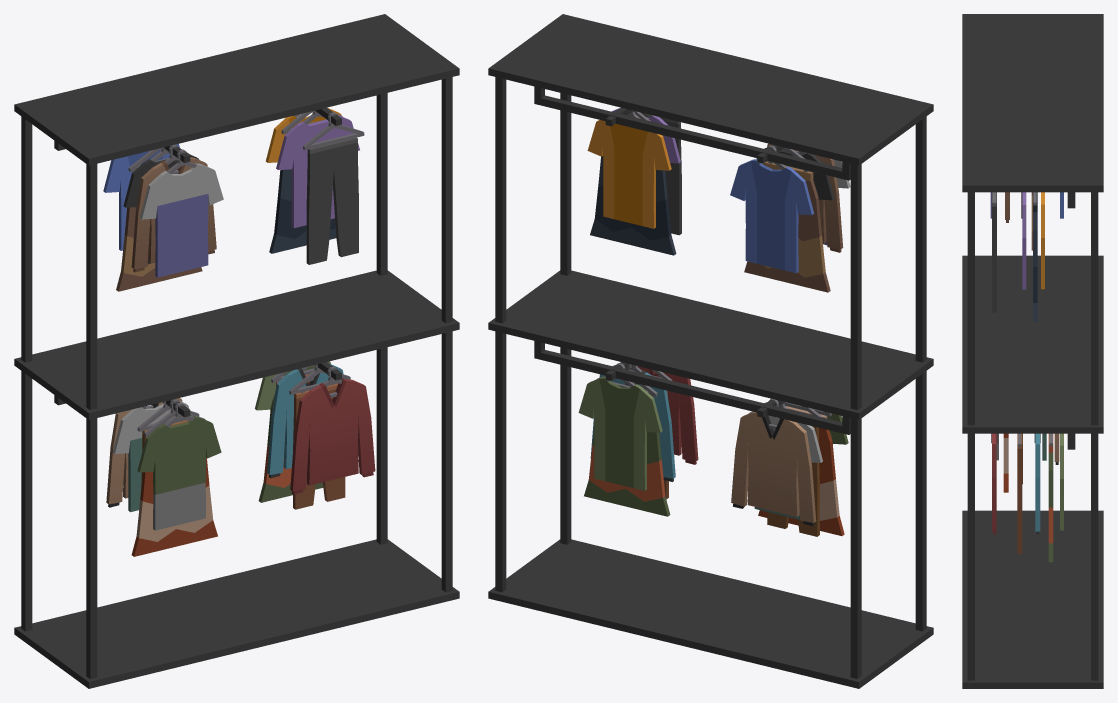
Rendered from SM_Props_Rack_08.fbx.
The picture shows the model from 3 angles, left to right: view 1: azimuth 30°, elevation 25°; view 2: azimuth 150°, elevation 25°; view 3: azimuth 270°, elevation 25°; orthographic projection. The views are drawn at different scales.
Visible parts, largest first — view 1: SM_Props_Rack_08; view 2: SM_Props_Rack_08; view 3: SM_Props_Rack_08.
Part boxes in pixels (<box>): SM_Props_Rack_08: <box>14,14,459,688</box>; SM_Props_Rack_08: <box>488,14,933,688</box>; SM_Props_Rack_08: <box>962,14,1103,688</box>.
Size of the model in its own units: 2 by 2.73 by 0.6949.
